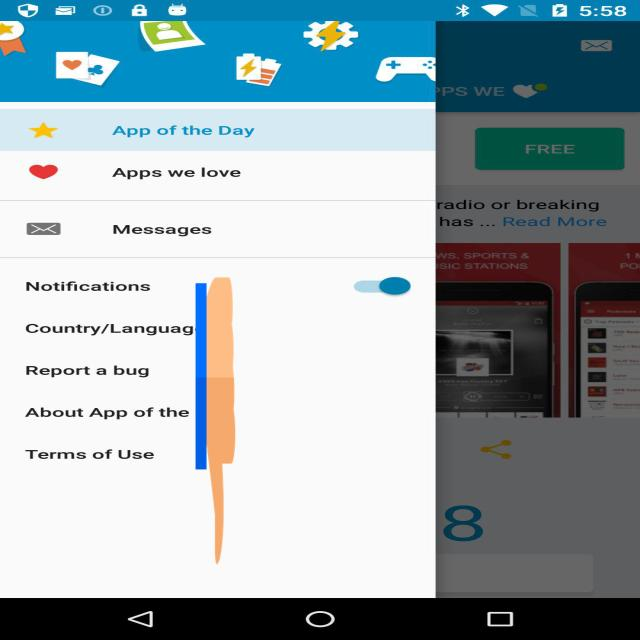obstruction: (196, 270, 235, 572)
